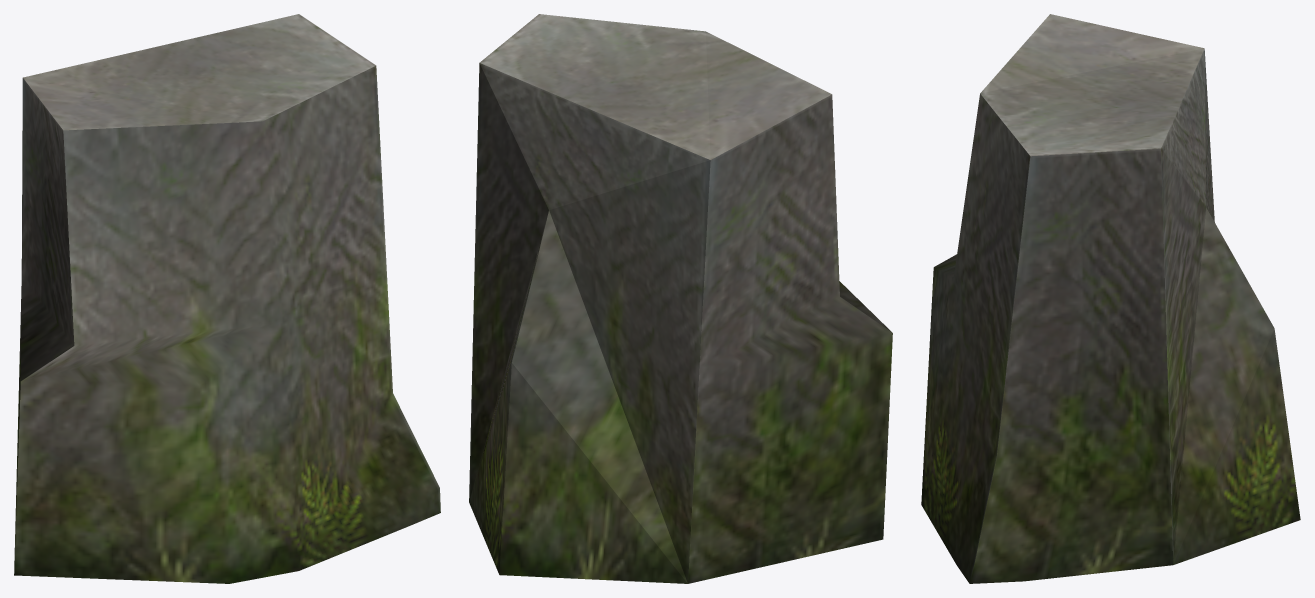
Rendered from qiao_dw_43.FBX.
3 renders of one model, left to right at view 1: azimuth 30°, elevation 25°; view 2: azimuth 150°, elevation 25°; view 3: azimuth 270°, elevation 25°, orthographic. The views are drawn at different scales.
Parts seen in each view (by area): view 1: qiao_dw_43; view 2: qiao_dw_43; view 3: qiao_dw_43.
Part boxes in pixels (x1,y1,x2,y2): qiao_dw_43: [14, 14, 440, 583]; qiao_dw_43: [469, 14, 892, 583]; qiao_dw_43: [921, 14, 1300, 583].
Size of what is drawn, in the model's own units: 379 by 406 by 336.
